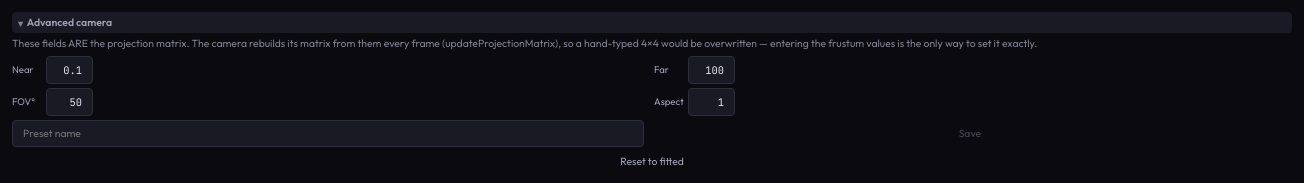
Test: CameraAdvanced — save as preset (storage is task 08's) › clears the name after a save, so the next one starts empty
Type "Wide" into the field labelled "Preset name" at (328, 133), box x1=12 y1=120 x2=644 y2=147
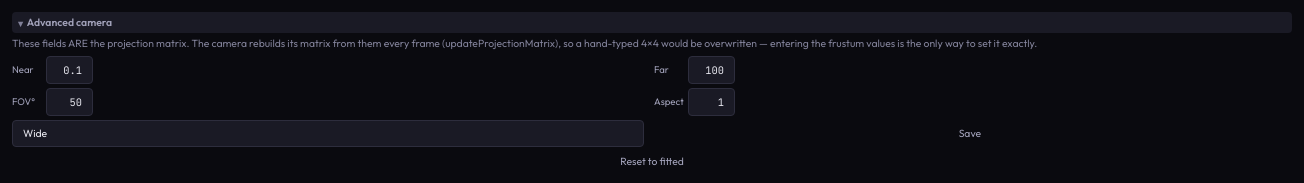
Press Enter in the field named "Preset name", box x1=12 y1=120 x2=644 y2=147
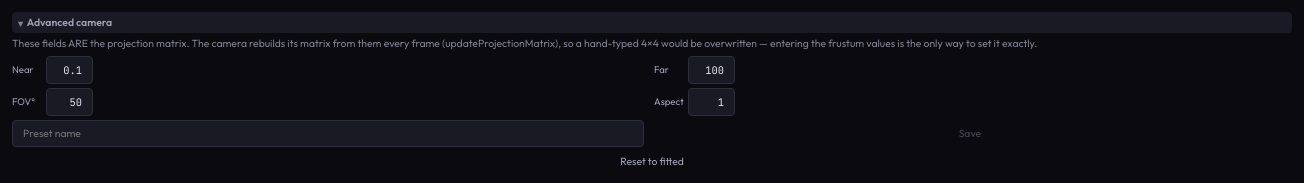
Expected: the field labelled "Preset name" is empty, x1=12 y1=120 x2=644 y2=147
